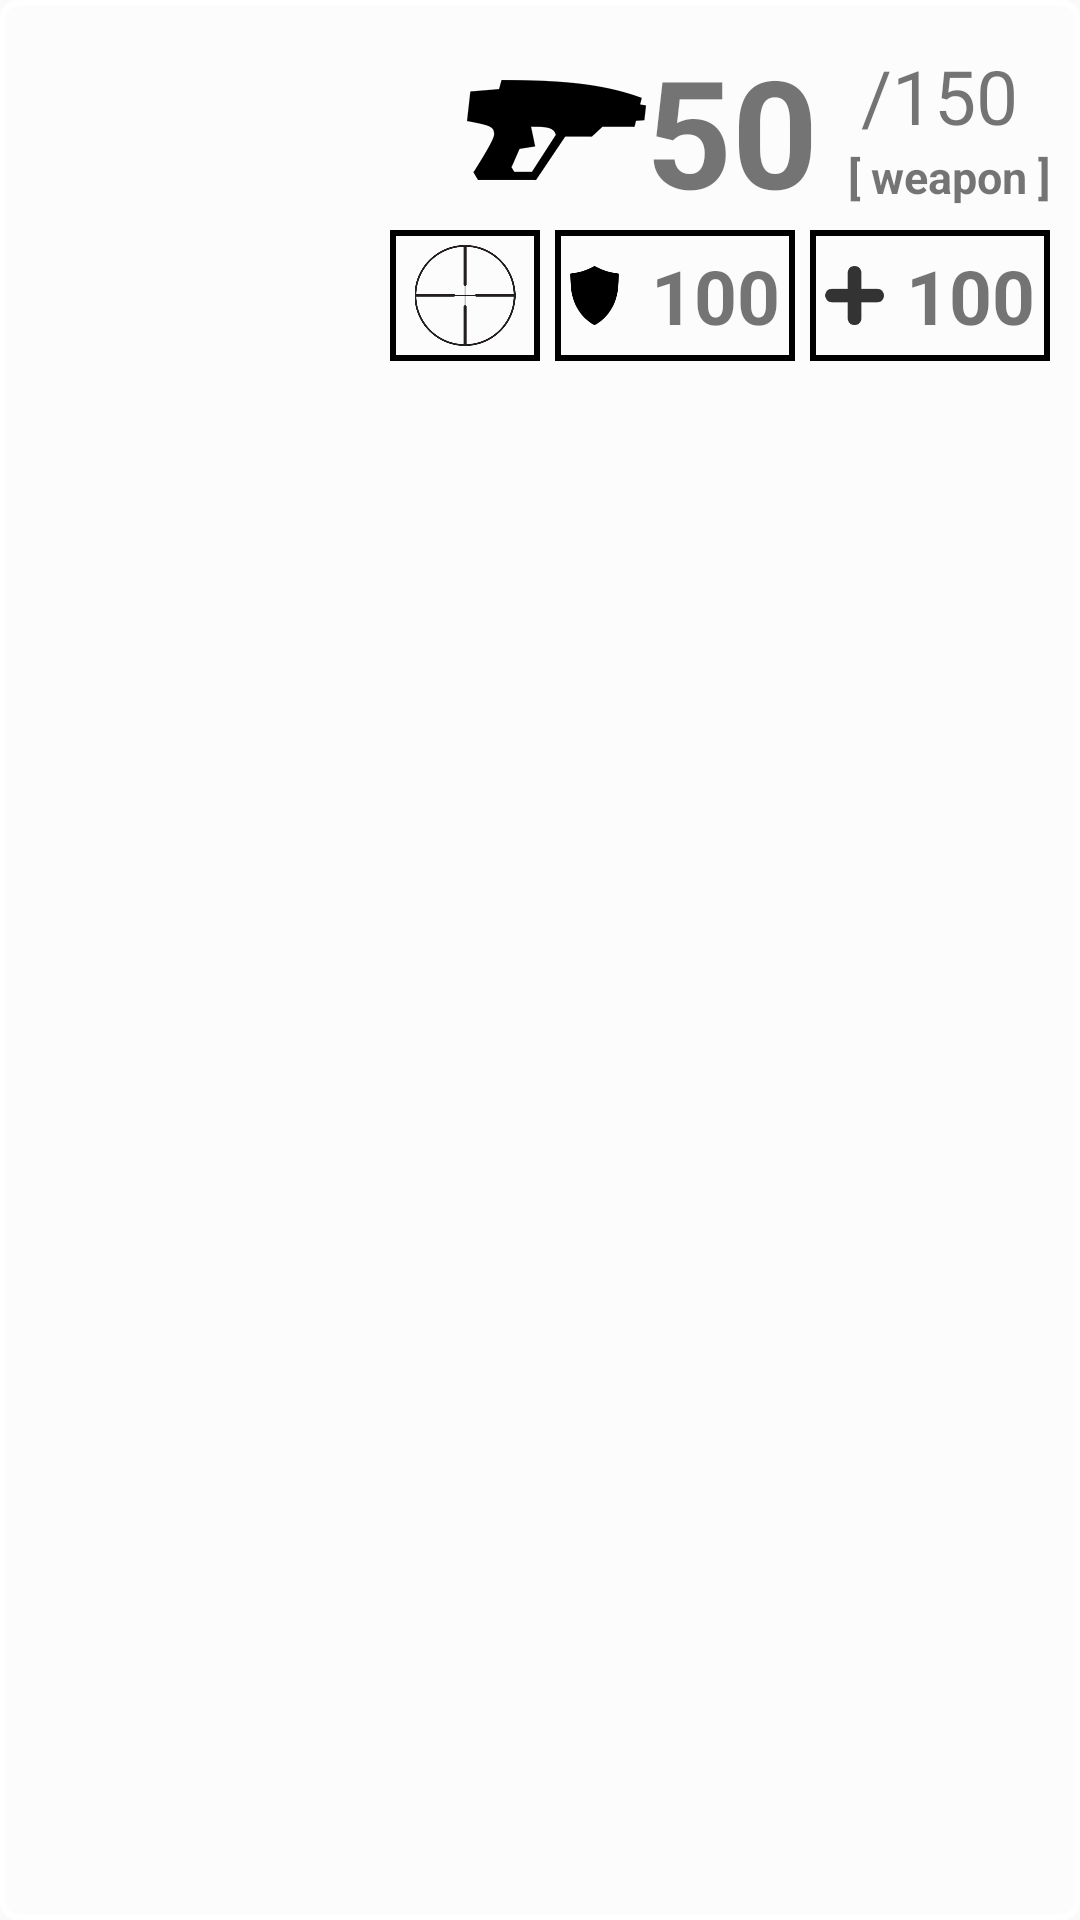

Locate icon controls on the screen. Image size 1080px×1920px, boxes as (x1, y1, x2, y2).
lasergun: (467, 80, 646, 180)
plus health: (825, 266, 884, 325)
reticle: (415, 245, 516, 346)
shield: (570, 266, 619, 325)
